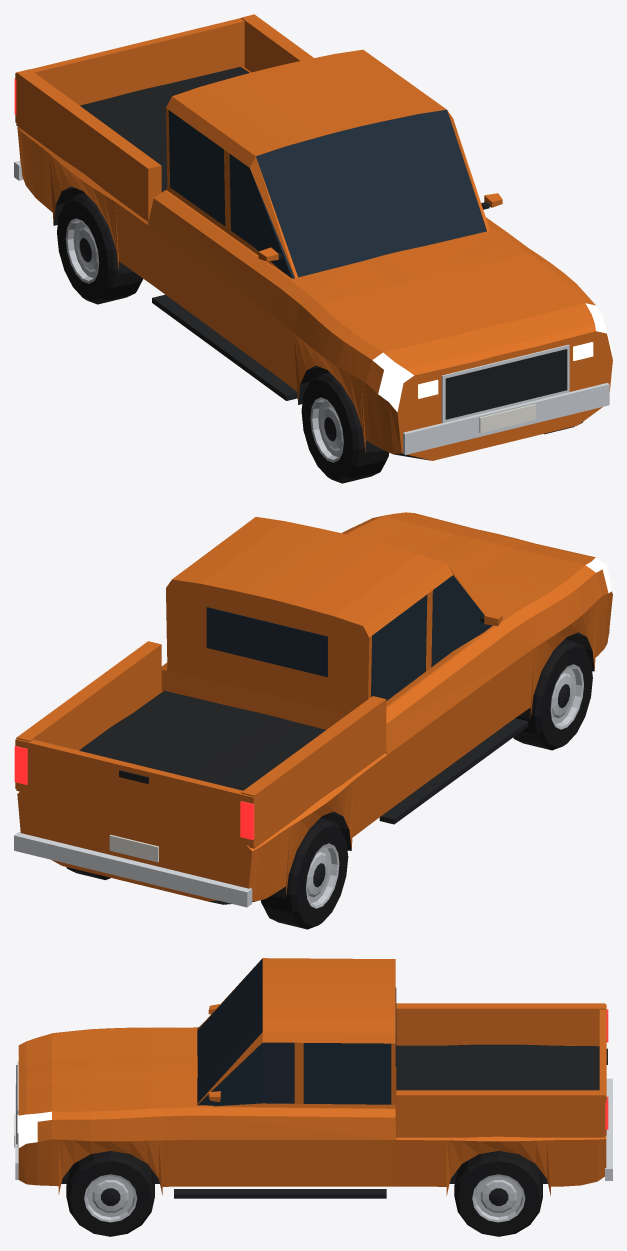
Rendered from pickup-truck-01.glb.
3 renders of one model, top to bottom at view 1: azimuth 30°, elevation 25°; view 2: azimuth 150°, elevation 25°; view 3: azimuth 270°, elevation 25°, orthographic. The views are drawn at different scales.
Visible parts, largest first — view 1: Body, Wheel_FR, Wheel_RR; view 2: Body, Wheel_RR, Wheel_FR; view 3: Body, Wheel_FL, Wheel_RL.
Boxes of the visible parts, x1=… form: Body: x1=14, y1=14, x2=612, y2=460; Wheel_FR: x1=301, y1=372, x2=388, y2=483; Wheel_RR: x1=57, y1=193, x2=142, y2=304; Body: x1=14, y1=512, x2=612, y2=907; Wheel_RR: x1=261, y1=818, x2=348, y2=929; Wheel_FR: x1=513, y1=639, x2=592, y2=750; Body: x1=14, y1=958, x2=612, y2=1198; Wheel_FL: x1=66, y1=1151, x2=154, y2=1236; Wheel_RL: x1=454, y1=1151, x2=542, y2=1236.
Size of the model in its own units: 2.04 by 2 by 5.4.
